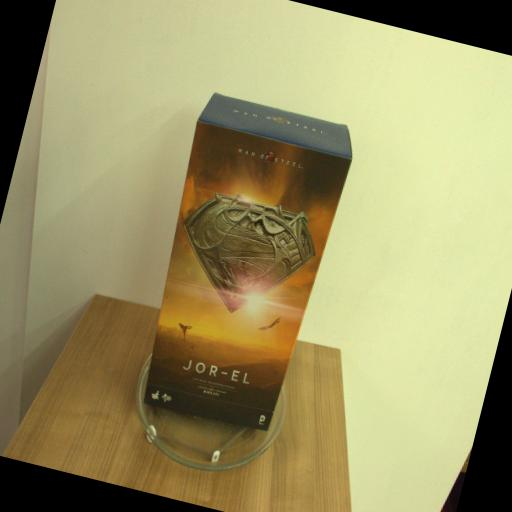superman: (130, 90, 361, 440)
